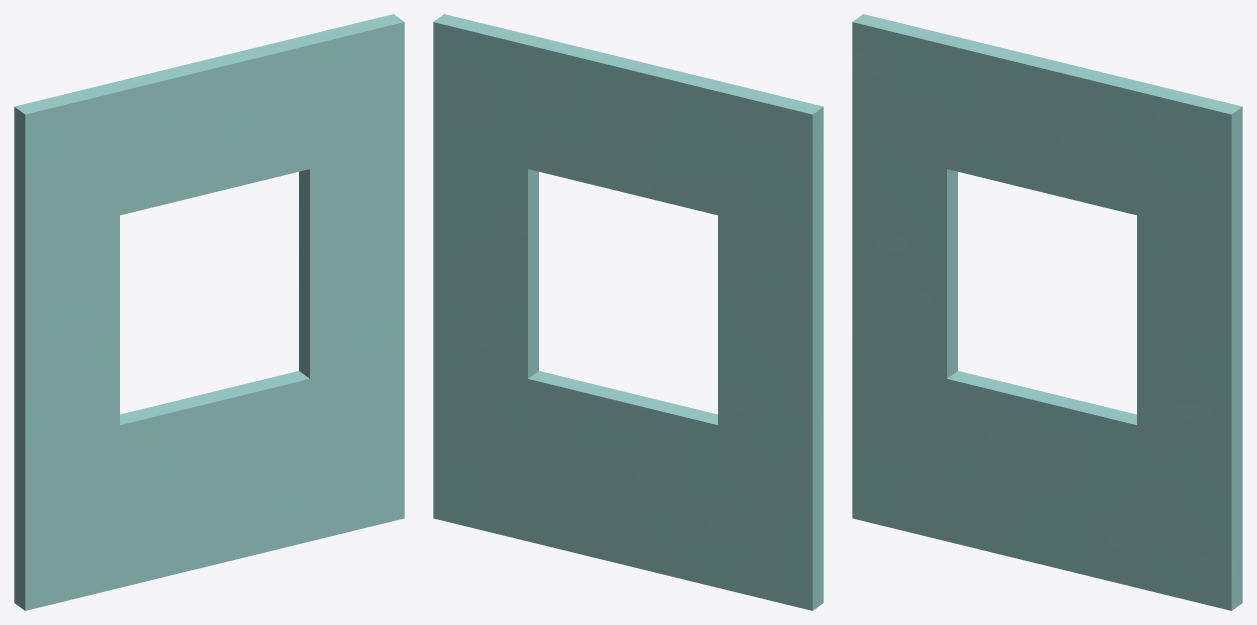
Rendered from Wall_04_Window.fbx.
The picture shows the model from 3 angles, left to right: view 1: azimuth 30°, elevation 25°; view 2: azimuth 150°, elevation 25°; view 3: azimuth 330°, elevation 25°; orthographic projection.
Parts seen in each view (by area): view 1: Wall_04_Window; view 2: Wall_04_Window; view 3: Wall_04_Window.
Part boxes in pixels (x1=…): Wall_04_Window: x1=14, y1=14, x2=404, y2=610; Wall_04_Window: x1=433, y1=14, x2=823, y2=610; Wall_04_Window: x1=852, y1=14, x2=1242, y2=610.
Bounding box in the file's own units: 2 × 2.5 × 0.1.
